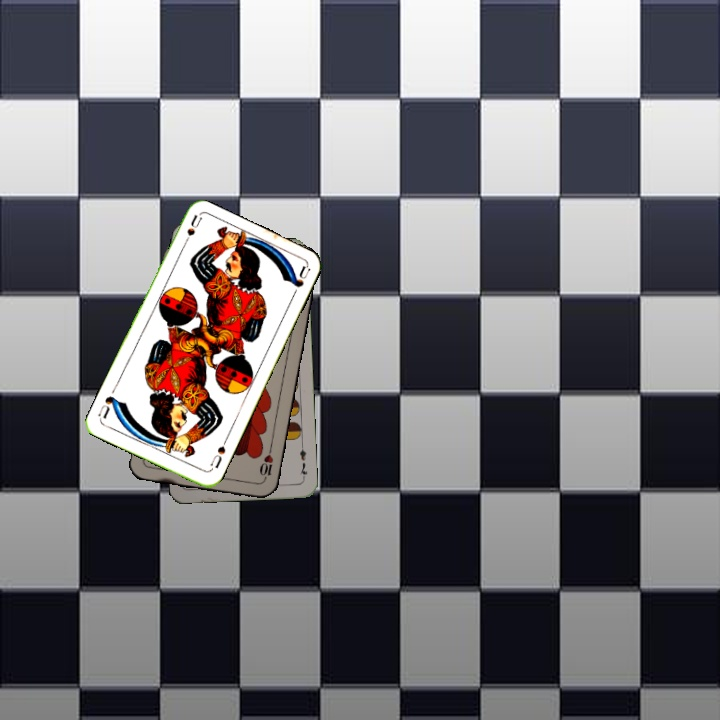E7: (296, 441, 310, 482)
H10: (255, 444, 276, 485)
SU: (178, 212, 204, 251), (206, 435, 230, 473)
